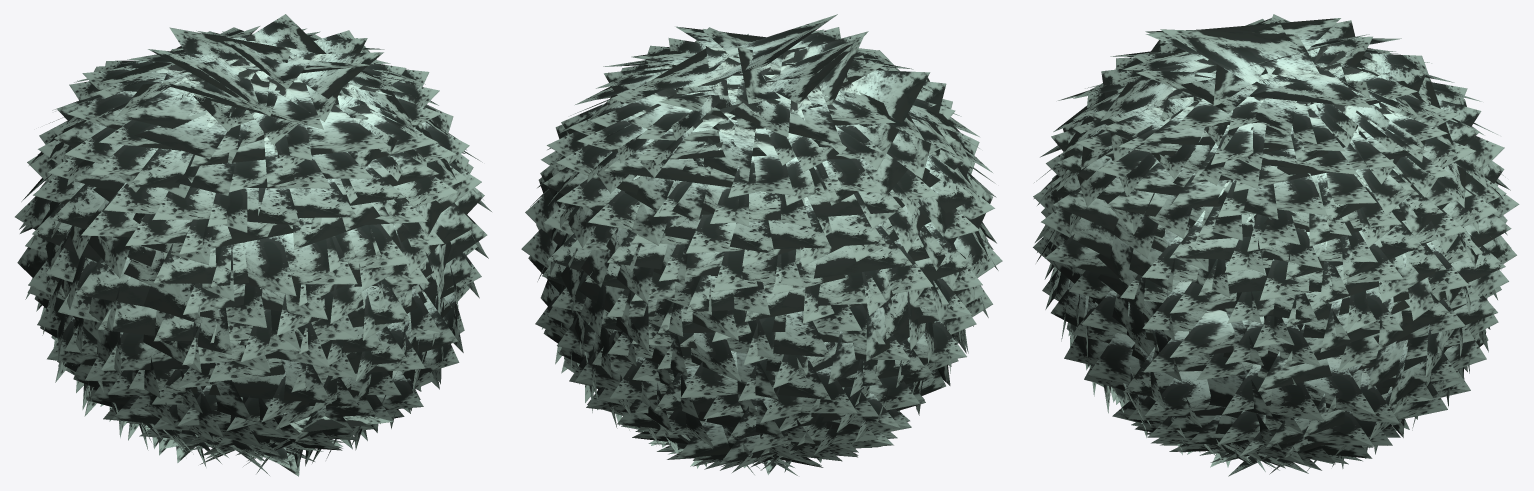
File: fluffy_ball.fbx
3 renders of one model, left to right at view 1: azimuth 30°, elevation 25°; view 2: azimuth 150°, elevation 25°; view 3: azimuth 270°, elevation 25°, orthographic. The views are drawn at different scales.
Visible parts, largest first — view 1: fn.001; view 2: fn.001; view 3: fn.001.
Part boxes in pixels (x1,y1,x2,y2): fn.001: (15, 14, 491, 476); fn.001: (521, 14, 1002, 475); fn.001: (1033, 14, 1519, 476).
Bounding box in the file's own units: 252 × 229 × 253.
3 materials, 2 textured.
